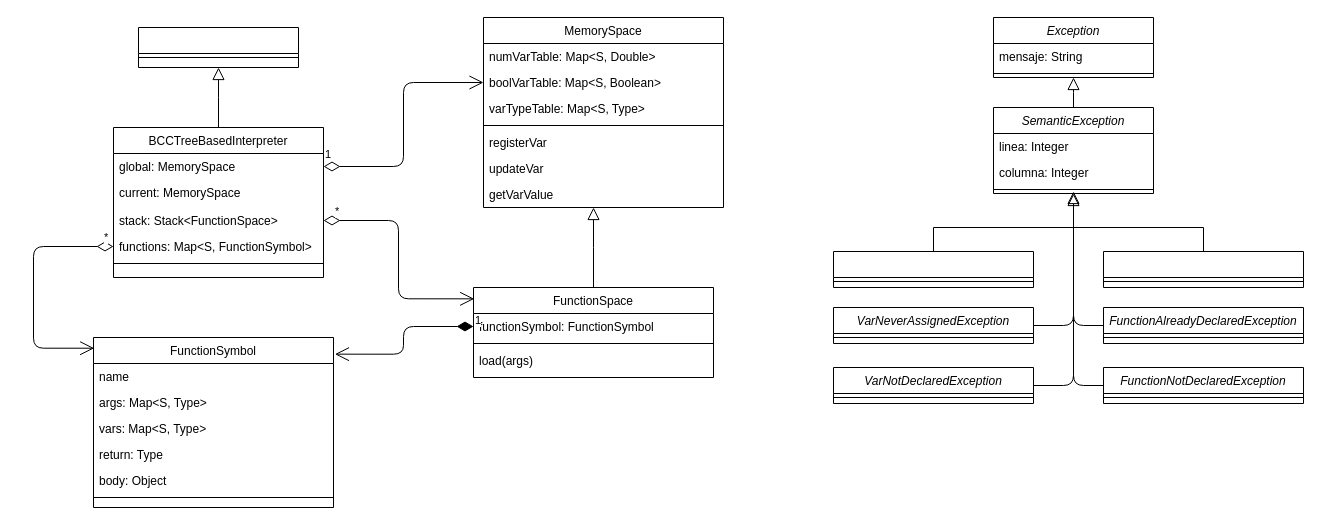
Some shapes in this 1321 by 525 pixel diagram are drawn without their labels. Each missing label, with the centre of its shape:
BCCBaseVisitor: (x=218, y=47)
InvalidArgsException: (x=1203, y=269)
VarAlreadyDeclaredException: (x=933, y=269)
